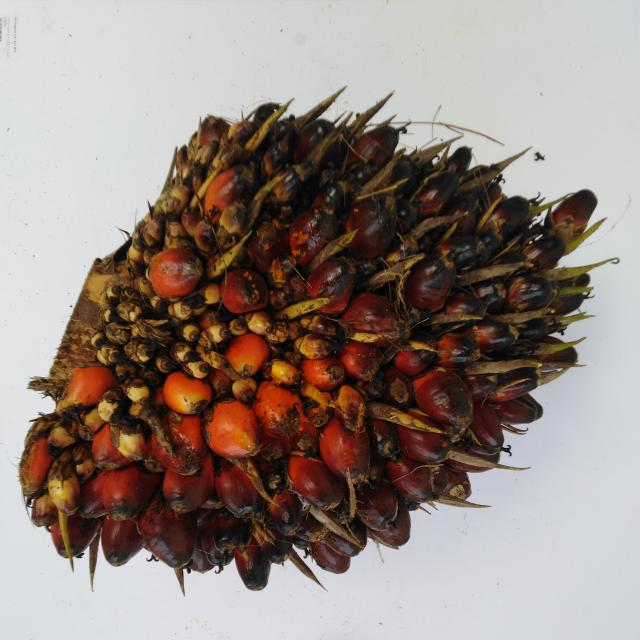FFB: (42, 118, 584, 587)
